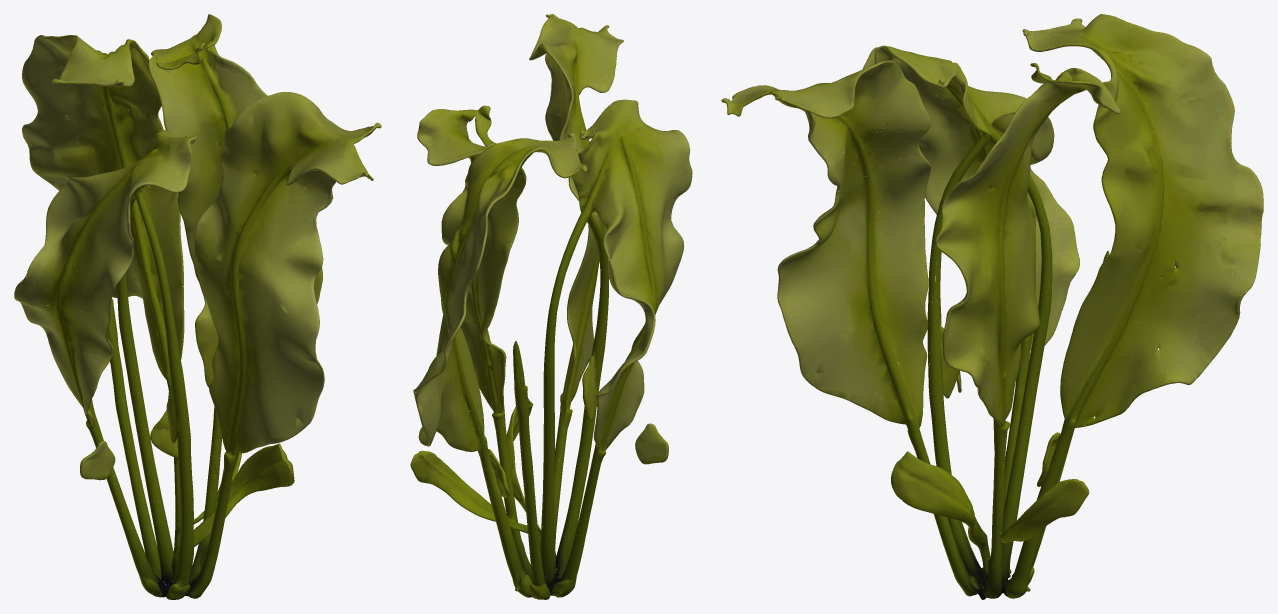
Rendered from KelpCluster.glb.
3 renders of one model, left to right at view 1: azimuth 30°, elevation 25°; view 2: azimuth 150°, elevation 25°; view 3: azimuth 270°, elevation 25°, orthographic. The views are drawn at different scales.
Parts seen in each view (by area): view 1: tripo_node_4c5e82fc-38cb-4965-8603-bb372132bbcf; view 2: tripo_node_4c5e82fc-38cb-4965-8603-bb372132bbcf; view 3: tripo_node_4c5e82fc-38cb-4965-8603-bb372132bbcf.
Part boxes in pixels (x1,y1,x2,y2): tripo_node_4c5e82fc-38cb-4965-8603-bb372132bbcf: (14,14,381,599); tripo_node_4c5e82fc-38cb-4965-8603-bb372132bbcf: (410,14,692,599); tripo_node_4c5e82fc-38cb-4965-8603-bb372132bbcf: (721,14,1263,599).
Size of the model in its own units: 0.5167 by 0.9998 by 0.879.
1 material, 1 textured.
